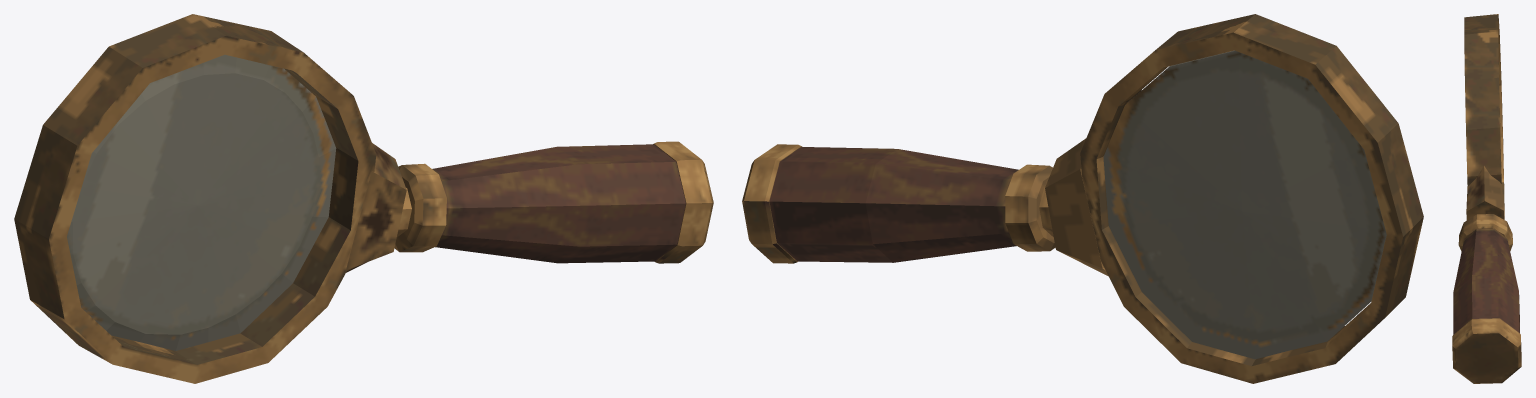
The model's file is CI16_AntiqueMagnifyingGlass.fbx.
3 views of the same model, side by side, from view 1: azimuth 30°, elevation 25°; view 2: azimuth 150°, elevation 25°; view 3: azimuth 270°, elevation 25° (orthographic). The views are drawn at different scales.
Visible parts, largest first — view 1: CI16_AntiqueMagnifyingGlass; view 2: CI16_AntiqueMagnifyingGlass; view 3: CI16_AntiqueMagnifyingGlass.
Boxes of the visible parts, <box> form: CI16_AntiqueMagnifyingGlass: <box>14,14,713,383</box>; CI16_AntiqueMagnifyingGlass: <box>742,14,1423,383</box>; CI16_AntiqueMagnifyingGlass: <box>1452,14,1521,383</box>.
Bounding box in the file's own units: 0.2129 × 0.1063 × 0.0314.
Materials: 1 (1 with a texture image).
